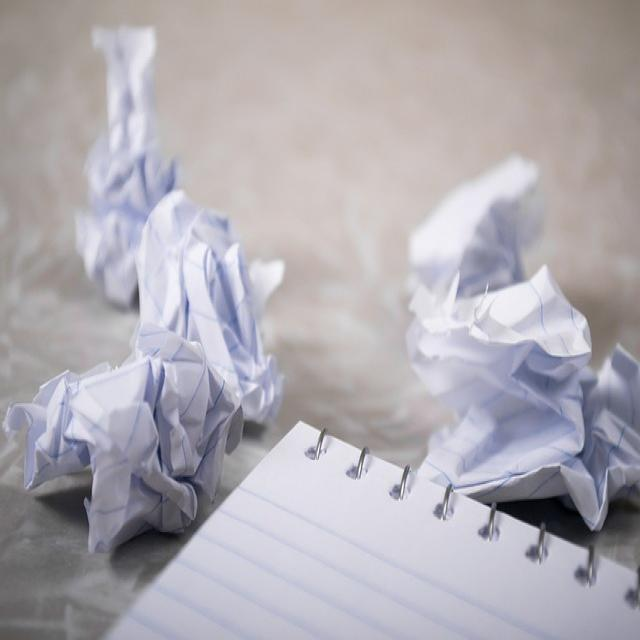paper: (9, 202, 253, 504), (407, 174, 638, 488), (69, 30, 149, 273)
